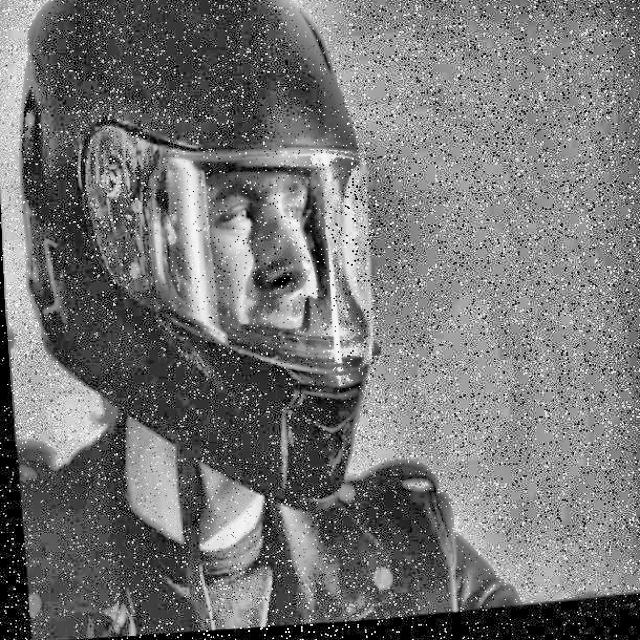Helmet: (0, 0, 393, 552)
